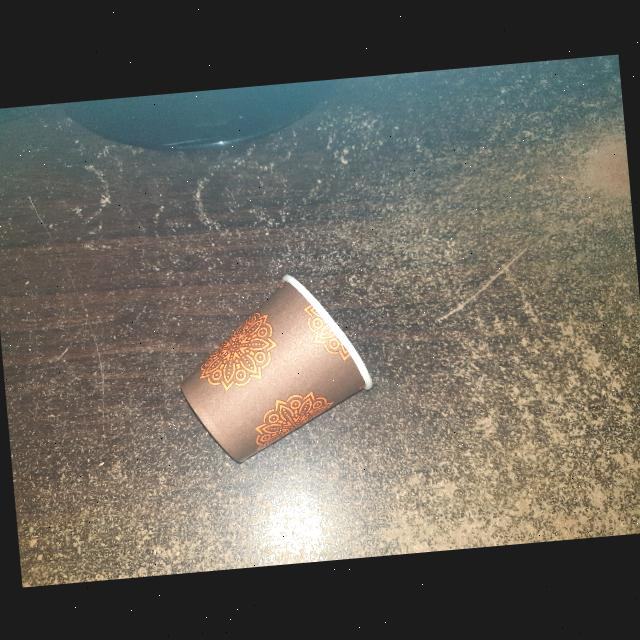trash: (160, 262, 384, 474)
